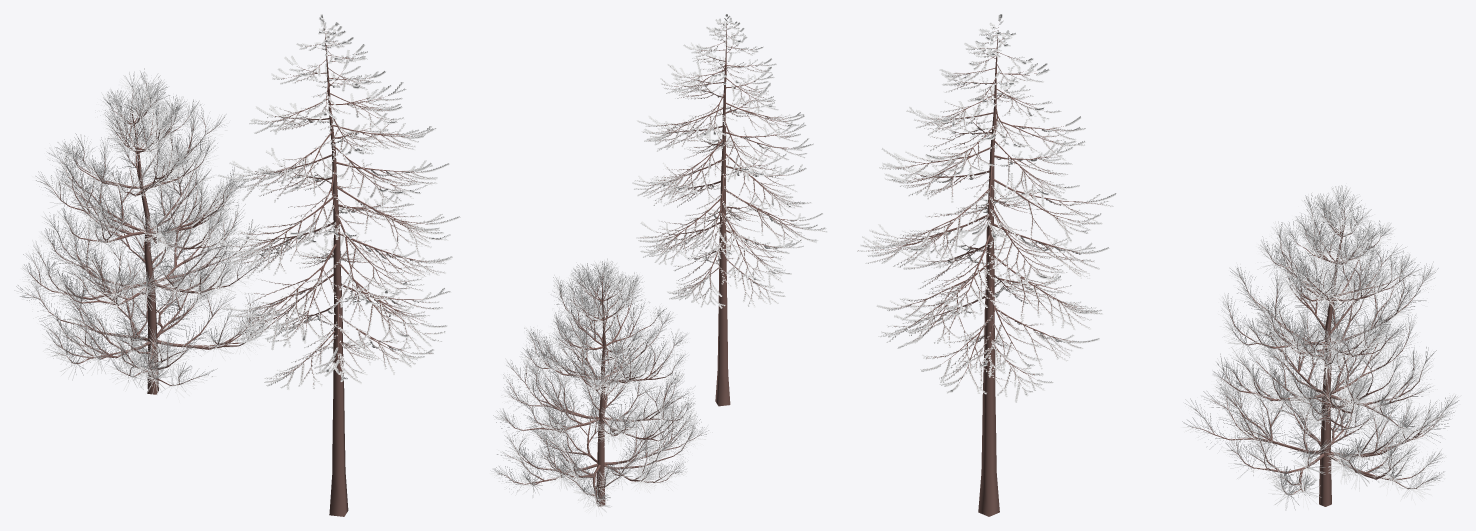
Rendered from snowtree.fbx.
The picture shows the model from 3 angles, left to right: view 1: azimuth 30°, elevation 25°; view 2: azimuth 150°, elevation 25°; view 3: azimuth 270°, elevation 25°; orthographic projection. The views are drawn at different scales.
Visible parts, largest first — view 1: leaves, leaves.001, tree.001, tree; view 2: leaves, leaves.001, tree.001, tree; view 3: leaves, leaves.001, tree.001, tree.
Part boxes in pixels (x1,y1,x2,y2): leaves: [14, 68, 275, 402]; leaves.001: [215, 14, 460, 389]; tree.001: [228, 26, 443, 516]; tree: [27, 82, 264, 394]; leaves: [489, 258, 712, 516]; leaves.001: [632, 14, 826, 308]; tree.001: [640, 22, 807, 406]; tree: [499, 273, 700, 506]; leaves: [1181, 185, 1461, 510]; leaves.001: [857, 14, 1116, 402]; tree.001: [858, 27, 1102, 516]; tree: [1192, 201, 1445, 506].
Size of what is drawn, in the model's own units: 865 by 1691 by 1884.
